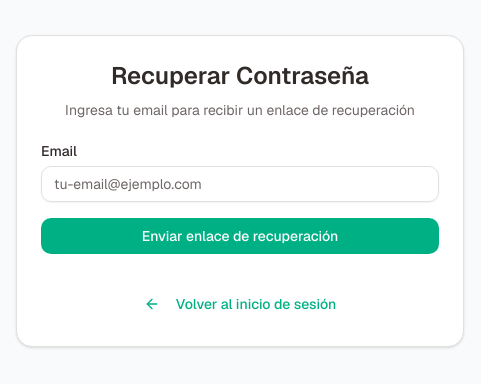
ResetPasswordPage › should show success message after sending reset email
Step 1. Type "test@example.com" into the field labelled "Email" → (240, 184), box x1=41 y1=166 x2=439 y2=202
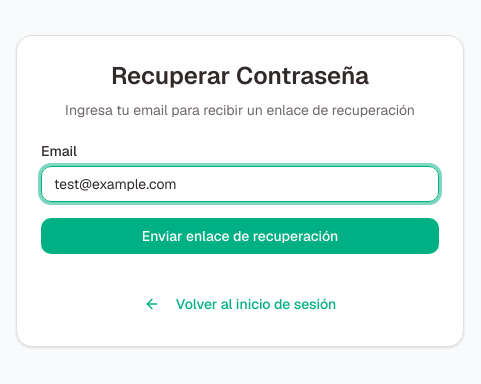
Step 2. Click the button "Enviar enlace de recuperación" → (240, 236), box x1=41 y1=218 x2=439 y2=254
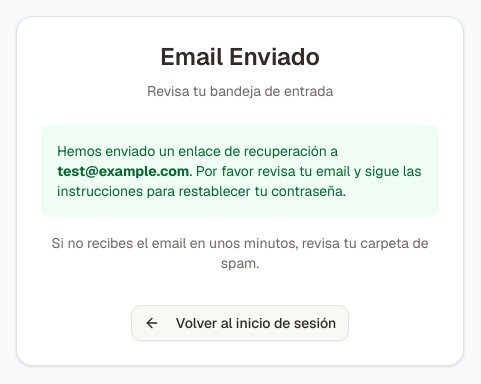
Expected: the text "Email Enviado" is shown, x1=160 y1=41 x2=320 y2=72
Expected: the text "test@example.com" is shown, x1=57 y1=162 x2=190 y2=180
